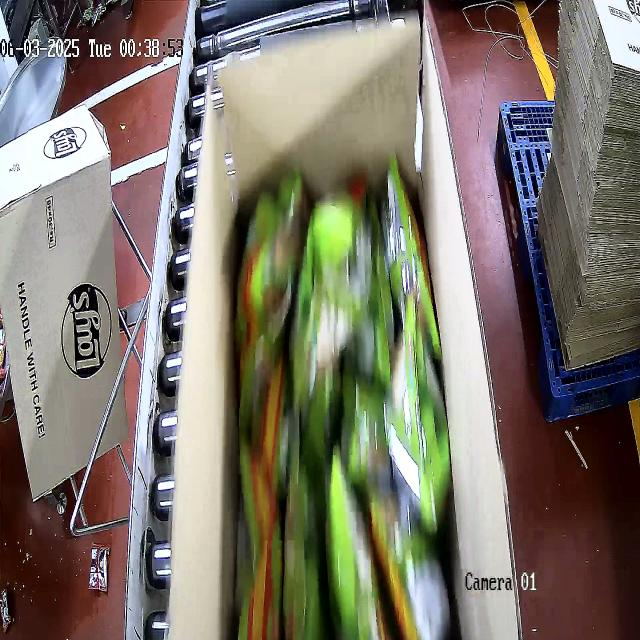YOGURT_HERB: (233, 152, 453, 638)
